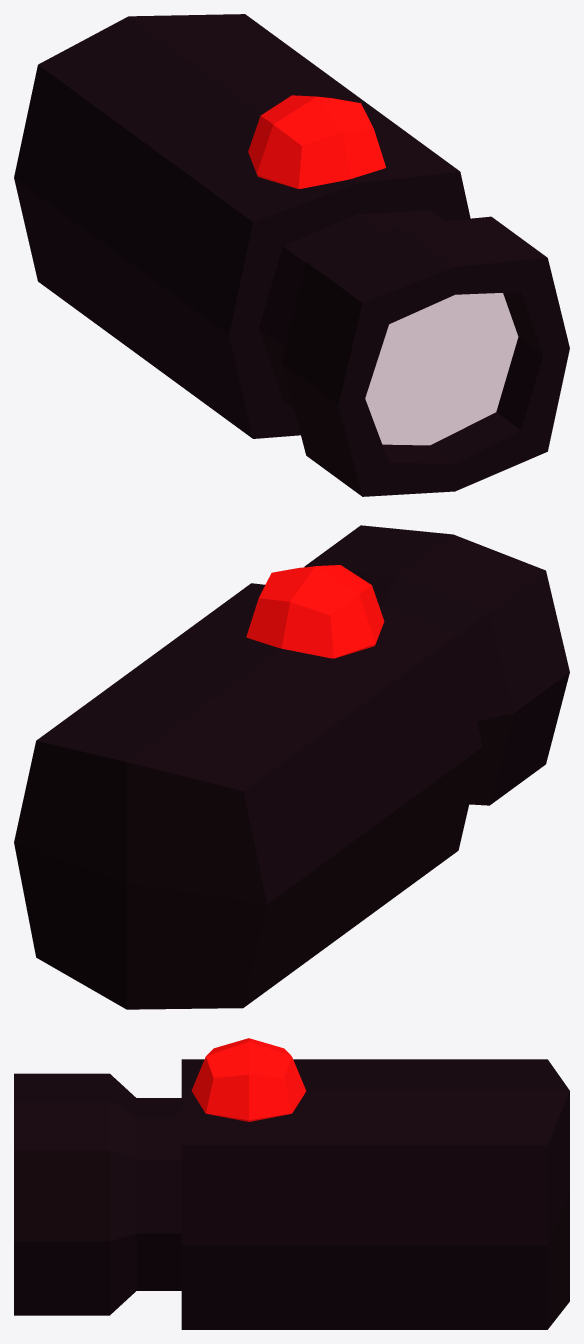
File: Camera.glb
3 views of the same model, one above another, from view 1: azimuth 30°, elevation 25°; view 2: azimuth 150°, elevation 25°; view 3: azimuth 270°, elevation 25° (orthographic). The views are drawn at different scales.
Parts seen in each view (by area): view 1: Camera, Cube; view 2: Camera, Cube; view 3: Camera, Cube.
Part boxes in pixels (x1=…): Camera: x1=14, y1=14, x2=569, y2=496; Cube: x1=248, y1=95, x2=385, y2=188; Camera: x1=14, y1=525, x2=569, y2=1009; Cube: x1=246, y1=565, x2=384, y2=658; Camera: x1=14, y1=1059, x2=569, y2=1329; Cube: x1=191, y1=1038, x2=306, y2=1121.
Size of the model in its own units: 0.9347 by 1.08 by 2.09.
